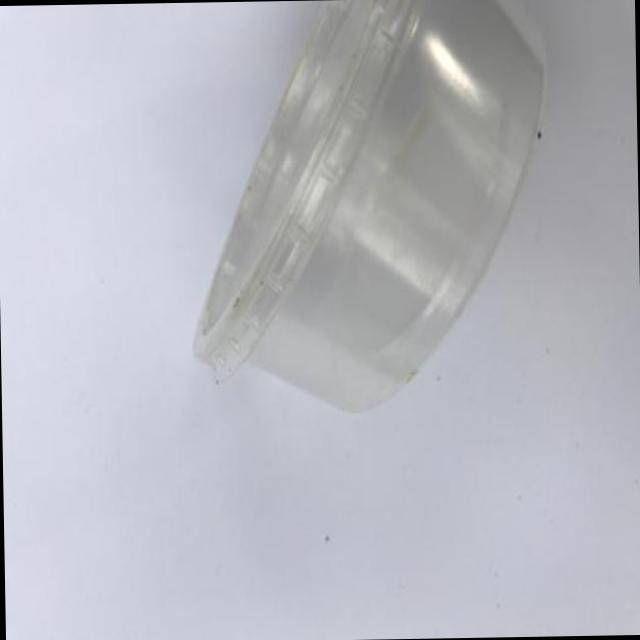Clamshell: (180, 0, 561, 429)
